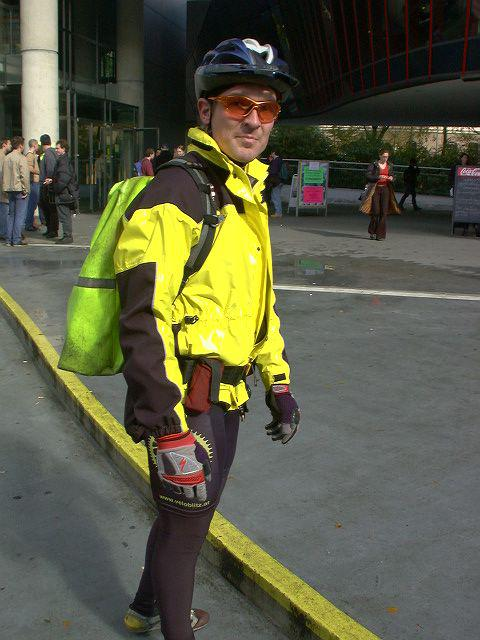Person: (112, 39, 303, 640)
